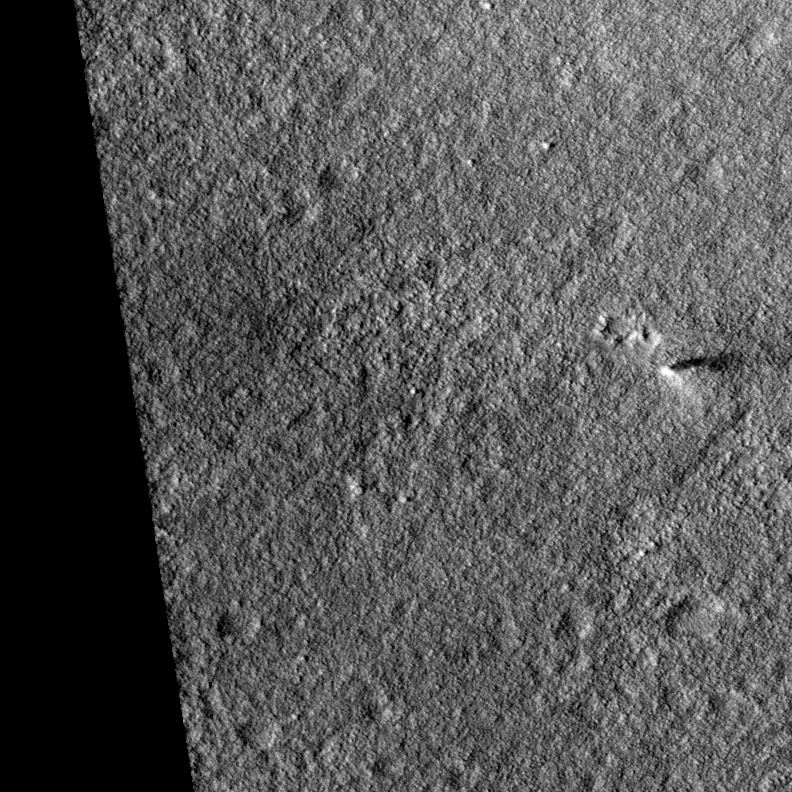dust_devil: (658, 349, 752, 389)
